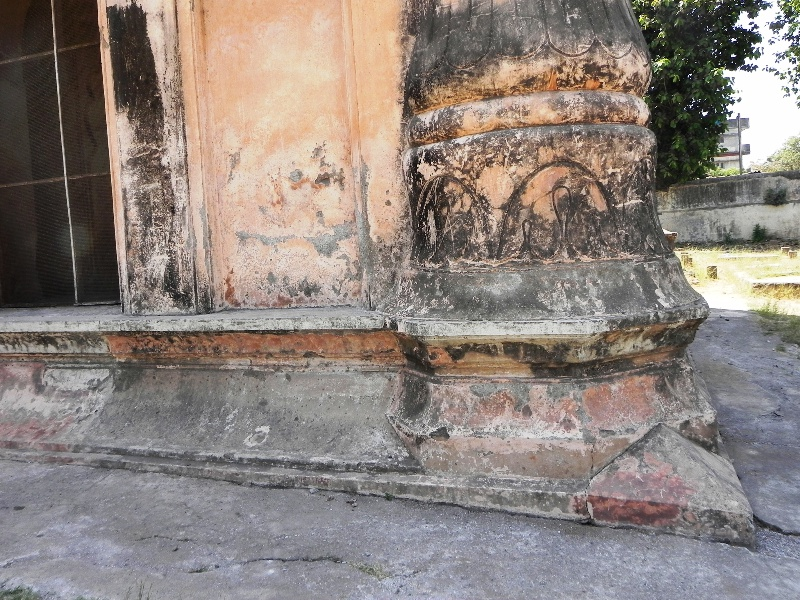Spalling: (277, 160, 307, 189)
